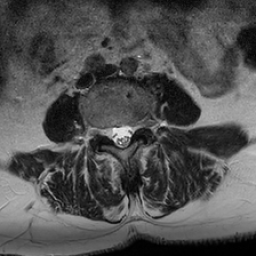CCS_normal: (117, 116, 125, 155)
LFS_stenosis: (133, 109, 141, 136)
LLS_normal: (125, 115, 133, 148)
RFS_normal: (98, 116, 107, 144)
RLS_normal: (107, 117, 117, 148)
